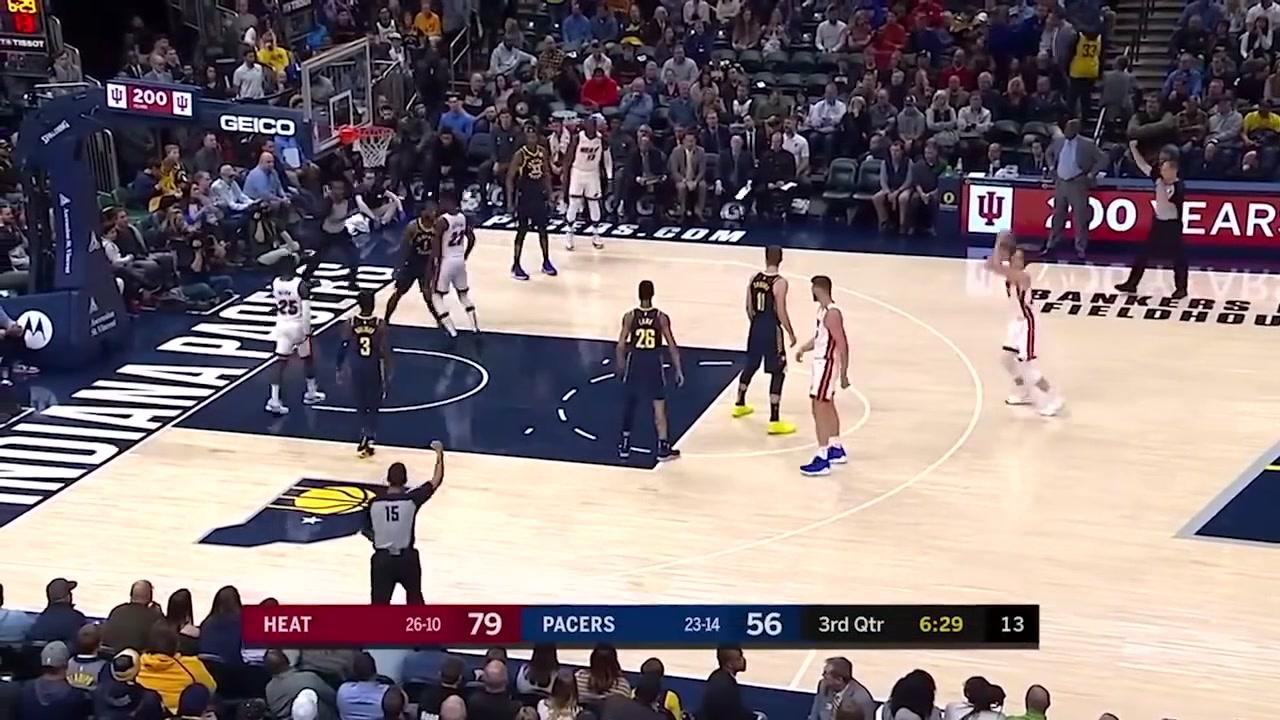foul: (389, 186, 493, 348)
